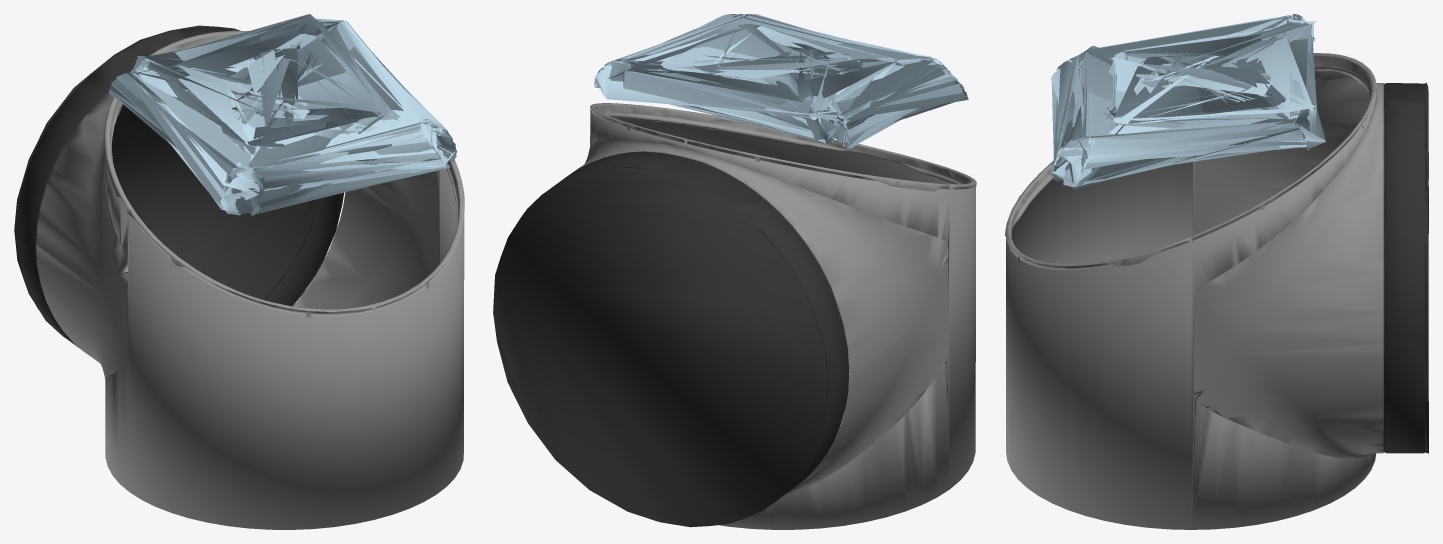
Rendered from shoulder.dae.
3 views of the same model, side by side, from view 1: azimuth 30°, elevation 25°; view 2: azimuth 150°, elevation 25°; view 3: azimuth 270°, elevation 25° (orthographic). The views are drawn at different scales.
Parts seen in each view (by area): view 1: eSeries_UR5e_001, eSeries_UR5e_008, eSeries_UR5e_007; view 2: eSeries_UR5e_007, eSeries_UR5e_001, eSeries_UR5e_008; view 3: eSeries_UR5e_001, eSeries_UR5e_008, eSeries_UR5e_007.
Boxes of the visible parts, x1,y1,x2,y2 form: eSeries_UR5e_001: [36, 30, 464, 529]; eSeries_UR5e_008: [109, 14, 456, 216]; eSeries_UR5e_007: [14, 25, 343, 347]; eSeries_UR5e_007: [493, 151, 849, 527]; eSeries_UR5e_001: [572, 103, 976, 529]; eSeries_UR5e_008: [594, 14, 968, 149]; eSeries_UR5e_001: [1005, 53, 1383, 529]; eSeries_UR5e_008: [1051, 14, 1325, 189]; eSeries_UR5e_007: [1383, 82, 1428, 453].
Size of the model in its own units: 0.1167 by 0.1327 by 0.1337.
